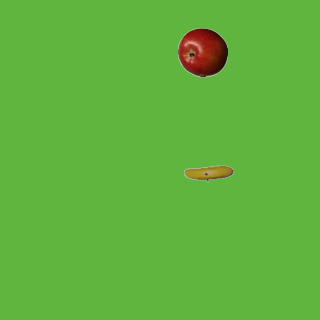Apple Braeburn: (177, 27, 227, 77)
Banana: (183, 148, 233, 198)
